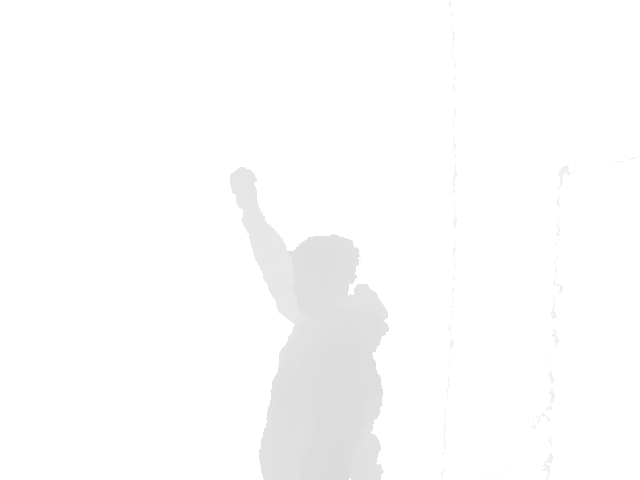hand: (229, 166, 260, 208)
head: (287, 232, 362, 316)
person: (229, 166, 391, 480)
